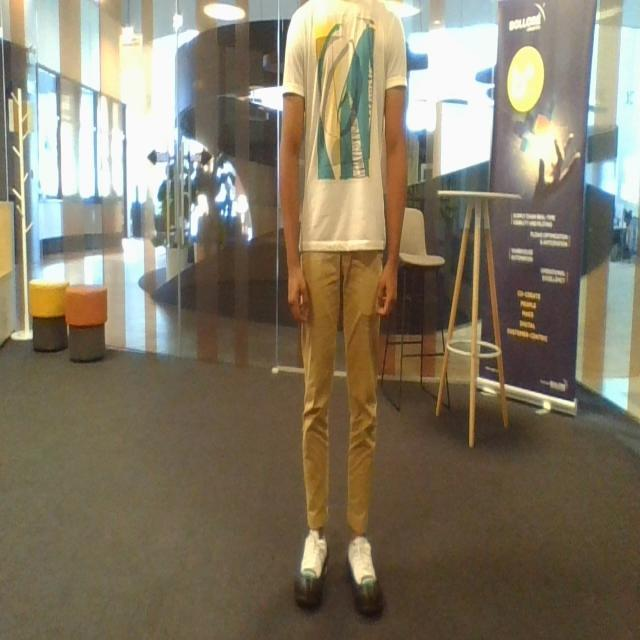shoes: (286, 523, 330, 613), (346, 537, 383, 619)
